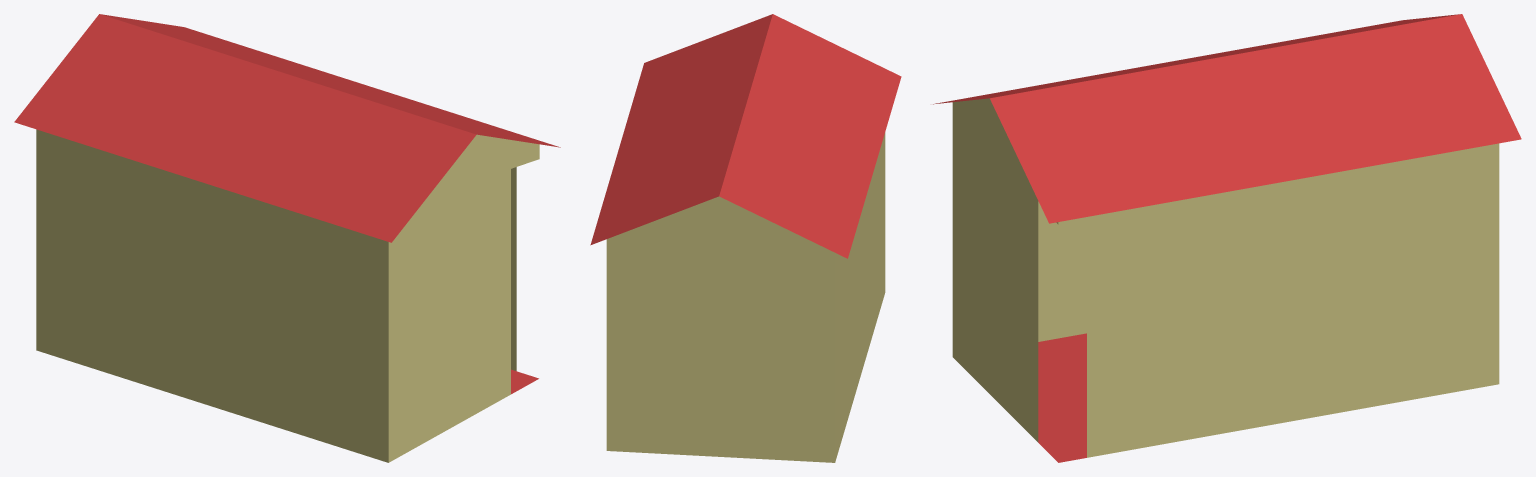
The picture shows the model from 3 angles, left to right: view 1: azimuth 30°, elevation 25°; view 2: azimuth 150°, elevation 25°; view 3: azimuth 270°, elevation 25°; orthographic projection. The views are drawn at different scales.
Size of the model in its own units: 13.93 by 17.12 by 10.04.
